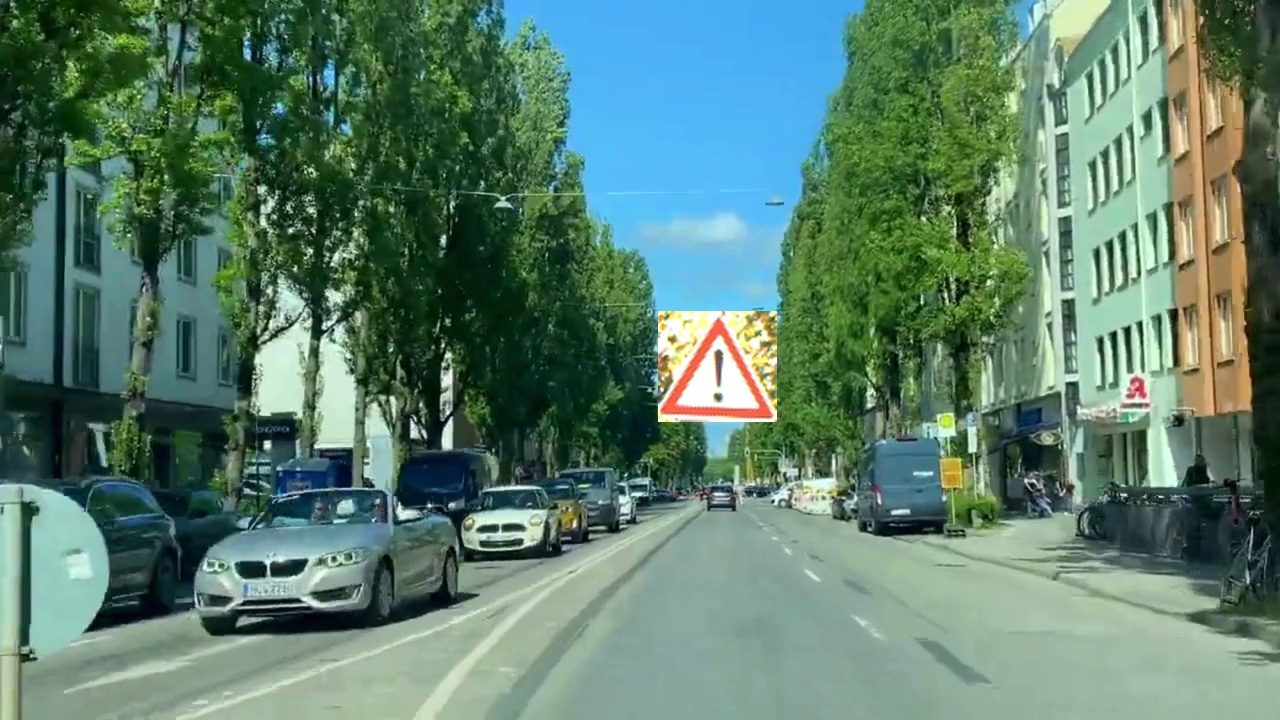Caution: (658, 311, 777, 422)
